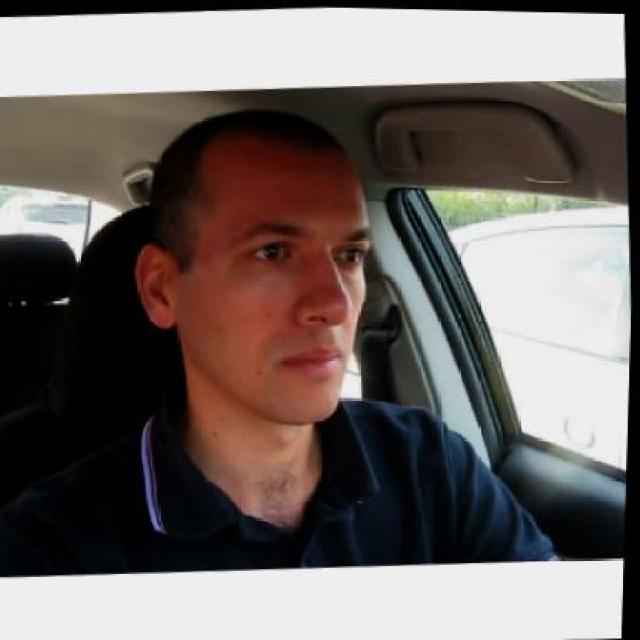attentif: (128, 98, 386, 434)
